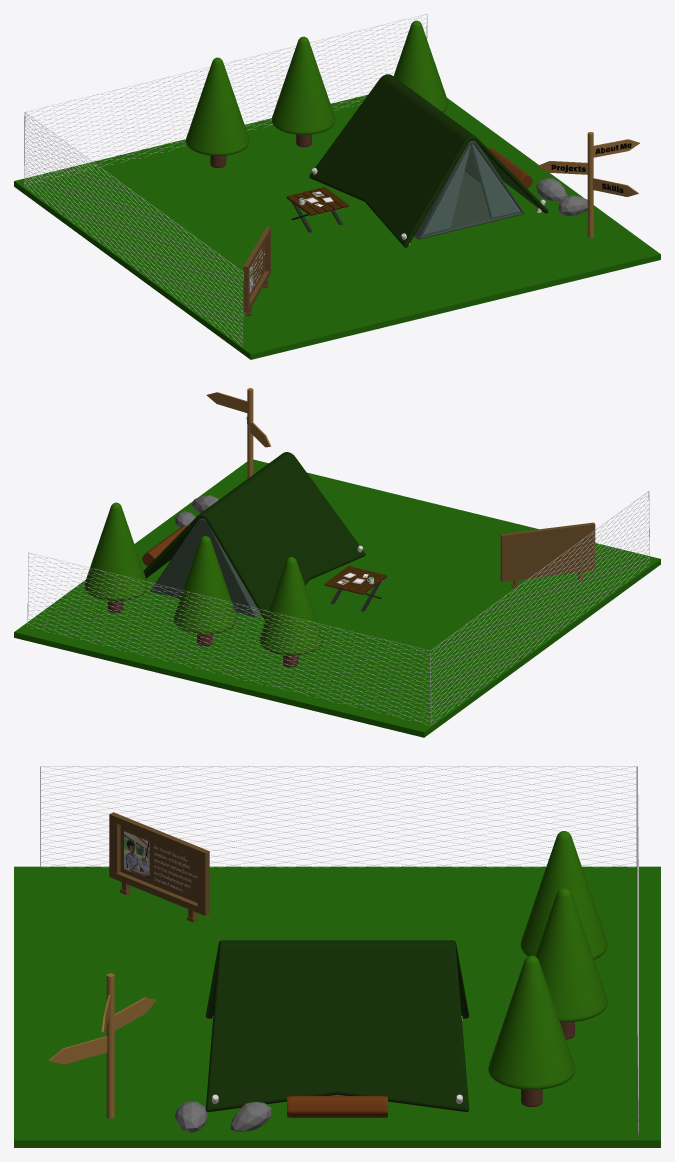
File: 3Dportfolio9.glb
The picture shows the model from 3 angles, top to bottom: view 1: azimuth 30°, elevation 25°; view 2: azimuth 150°, elevation 25°; view 3: azimuth 270°, elevation 25°; orthographic projection. The views are drawn at different scales.
Visible parts, largest first — view 1: Plane, Cube.001, Plane.001, Plane.002, Cylinder.006, Cylinder.008, Cube, Plane.006, Cylinder.004, Cube.003, Cube.002, Cylinder (+3 smaller); view 2: Plane, Cube.001, Plane.002, Plane.001, Cube.003, Cylinder.008, Cylinder.006, Cylinder.004, Cube, Cube.002, Cylinder; view 3: Plane, Cube.001, Plane.001, Cylinder.004, Cube.003, Cylinder.006, Cylinder.008, Cylinder.002, Cylinder, portfolio_photo, Icosphere.001, Plane.005 (+4 smaller).
Boxes of the visible parts, bbox=[...] form: Plane: bbox=[14, 94, 660, 359]; Cube.001: bbox=[309, 74, 548, 247]; Plane.001: bbox=[24, 112, 243, 346]; Plane.002: bbox=[24, 14, 427, 186]; Cylinder.006: bbox=[271, 36, 335, 134]; Cylinder.008: bbox=[186, 57, 249, 155]; Cube: bbox=[414, 140, 524, 239]; Plane.006: bbox=[422, 144, 520, 236]; Cylinder.004: bbox=[393, 20, 448, 112]; Cube.003: bbox=[243, 226, 270, 316]; Cube.002: bbox=[286, 187, 348, 215]; Cylinder: bbox=[587, 132, 593, 238]; Plane: bbox=[14, 459, 660, 737]; Cube.001: bbox=[143, 452, 365, 620]; Plane.002: bbox=[27, 552, 430, 725]; Plane.001: bbox=[430, 491, 649, 725]; Cube.003: bbox=[500, 522, 595, 588]; Cylinder.008: bbox=[259, 557, 323, 655]; Cylinder.006: bbox=[173, 536, 237, 634]; Cylinder.004: bbox=[84, 502, 147, 600]; Cube: bbox=[150, 518, 260, 617]; Cube.002: bbox=[324, 566, 386, 594]; Cylinder: bbox=[247, 388, 253, 478]; Plane: bbox=[14, 866, 660, 1147]; Cube.001: bbox=[205, 940, 469, 1111]; Plane.001: bbox=[40, 766, 637, 867]; Cylinder.004: bbox=[488, 955, 575, 1089]; Cube.003: bbox=[109, 812, 209, 922]; Cylinder.006: bbox=[535, 888, 607, 1022]; Cylinder.008: bbox=[520, 831, 607, 959]; Cylinder.002: bbox=[287, 1096, 387, 1117]; Cylinder: bbox=[106, 973, 114, 1118]; portfolio_photo: bbox=[124, 831, 149, 879]; Icosphere.001: bbox=[230, 1102, 271, 1131]; Plane.005: bbox=[48, 1036, 107, 1064].
Size of the model in its own units: 10.28 by 2.64 by 10.
Materials: 25 (5 with a texture image).
